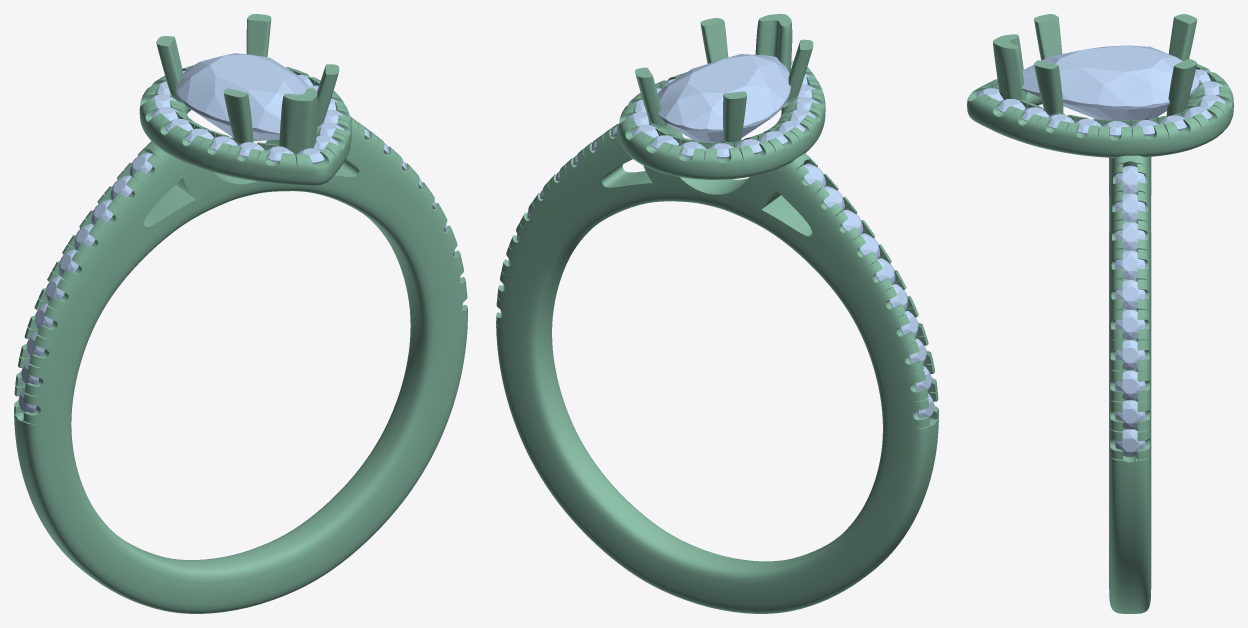
3 renders of one model, left to right at view 1: azimuth 30°, elevation 25°; view 2: azimuth 150°, elevation 25°; view 3: azimuth 270°, elevation 25°, orthographic. The views are drawn at different scales.
Visible parts, largest first — view 1: ER- 0177.3dm, Diamond_Pear; view 2: ER- 0177.3dm, Diamond_Pear; view 3: ER- 0177.3dm, Diamond_Pear, Diamond_Round (×10).
Part boxes in pixels (box(x1,y1,x2,y2)): ER- 0177.3dm: box(14, 14, 467, 613); Diamond_Pear: box(176, 53, 310, 141); ER- 0177.3dm: box(496, 14, 938, 613); Diamond_Pear: box(658, 54, 790, 143); ER- 0177.3dm: box(967, 14, 1233, 613); Diamond_Pear: box(1022, 45, 1199, 121); Diamond_Round (×10): box(1115, 166, 1145, 457).
Size of the model in its own units: 2.43 by 2.91 by 1.28.
